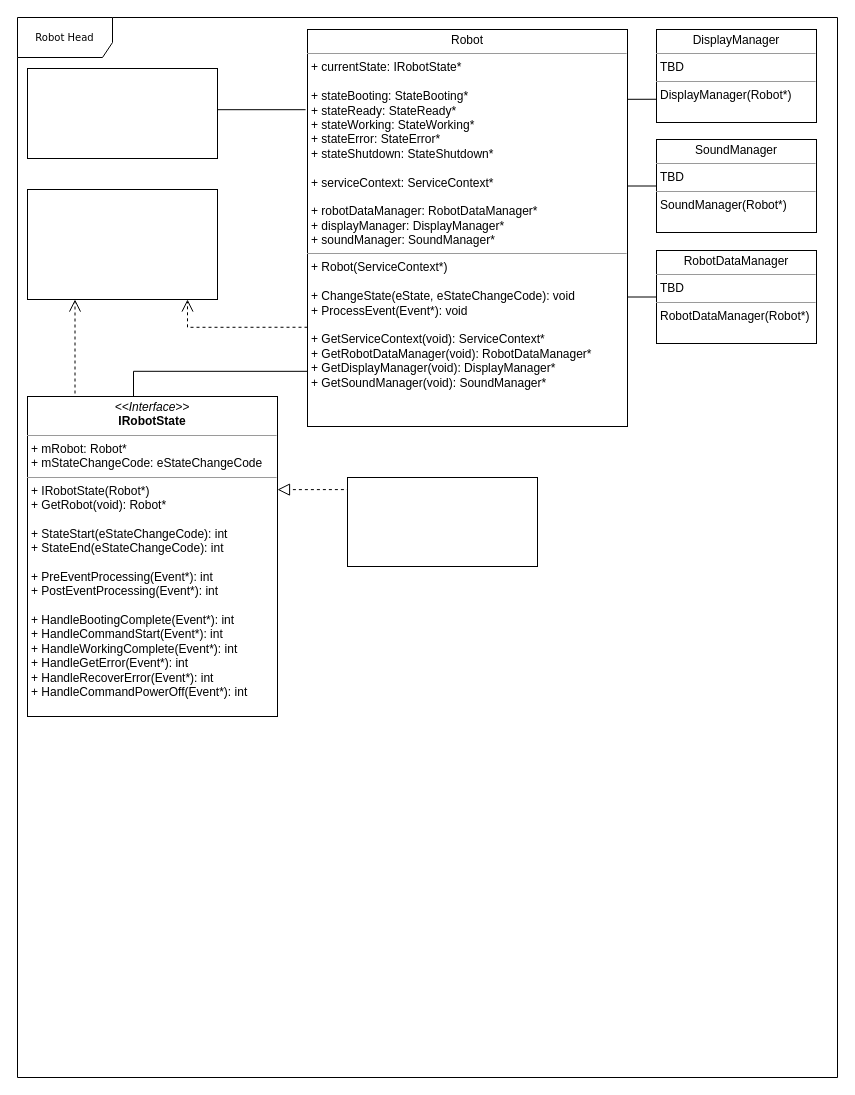
This 855x1095 diagram has some shape labels left out. Each missing label, with the centre of its shape:
EVENT TBD + GetEventCode(void): eEvent: the point at 122,244
ServiceContext TBD TBD: the point at 122,113
StateRoot TBD TBD: the point at 442,521
